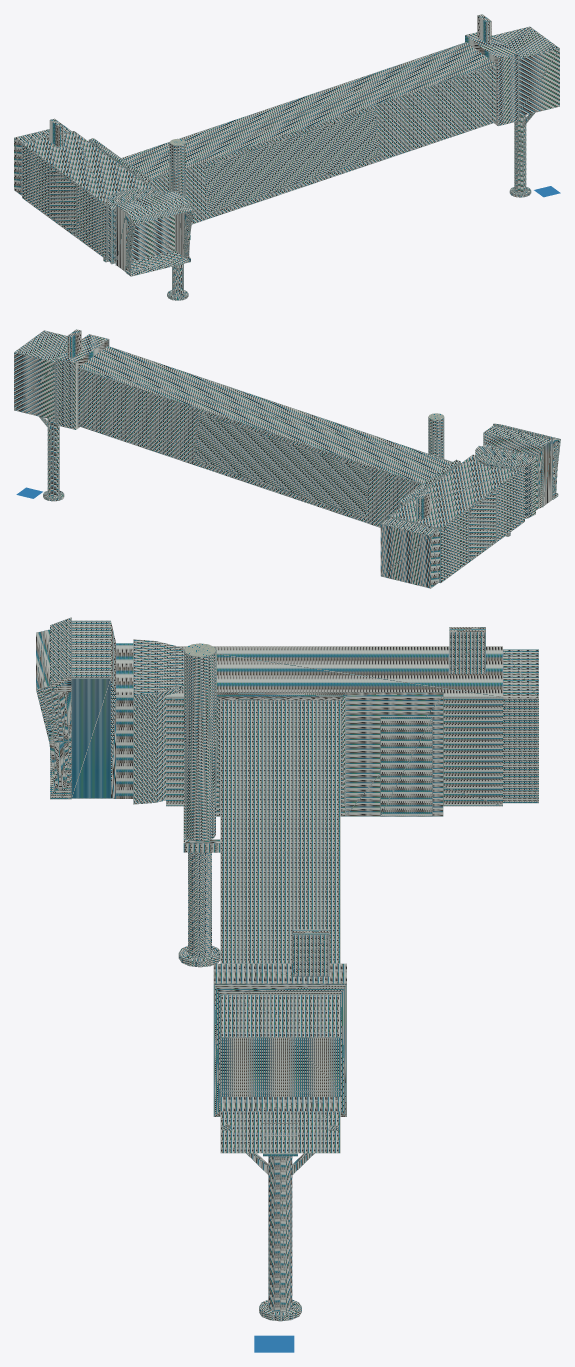
File: jetways_SKCL_3.gltf
3 views of the same model, one above another, from view 1: azimuth 30°, elevation 25°; view 2: azimuth 150°, elevation 25°; view 3: azimuth 270°, elevation 25° (orthographic). The views are drawn at different scales.
Parts seen in each view (by area): view 1: node1; view 2: node1; view 3: node1.
Part boxes in pixels (x1,y1,x2,y2): node1: (14,14,559,300); node1: (14,329,560,588); node1: (36,617,538,1321).
Bounding box in the file's own units: 27.72 × 9.9 × 12.55.
